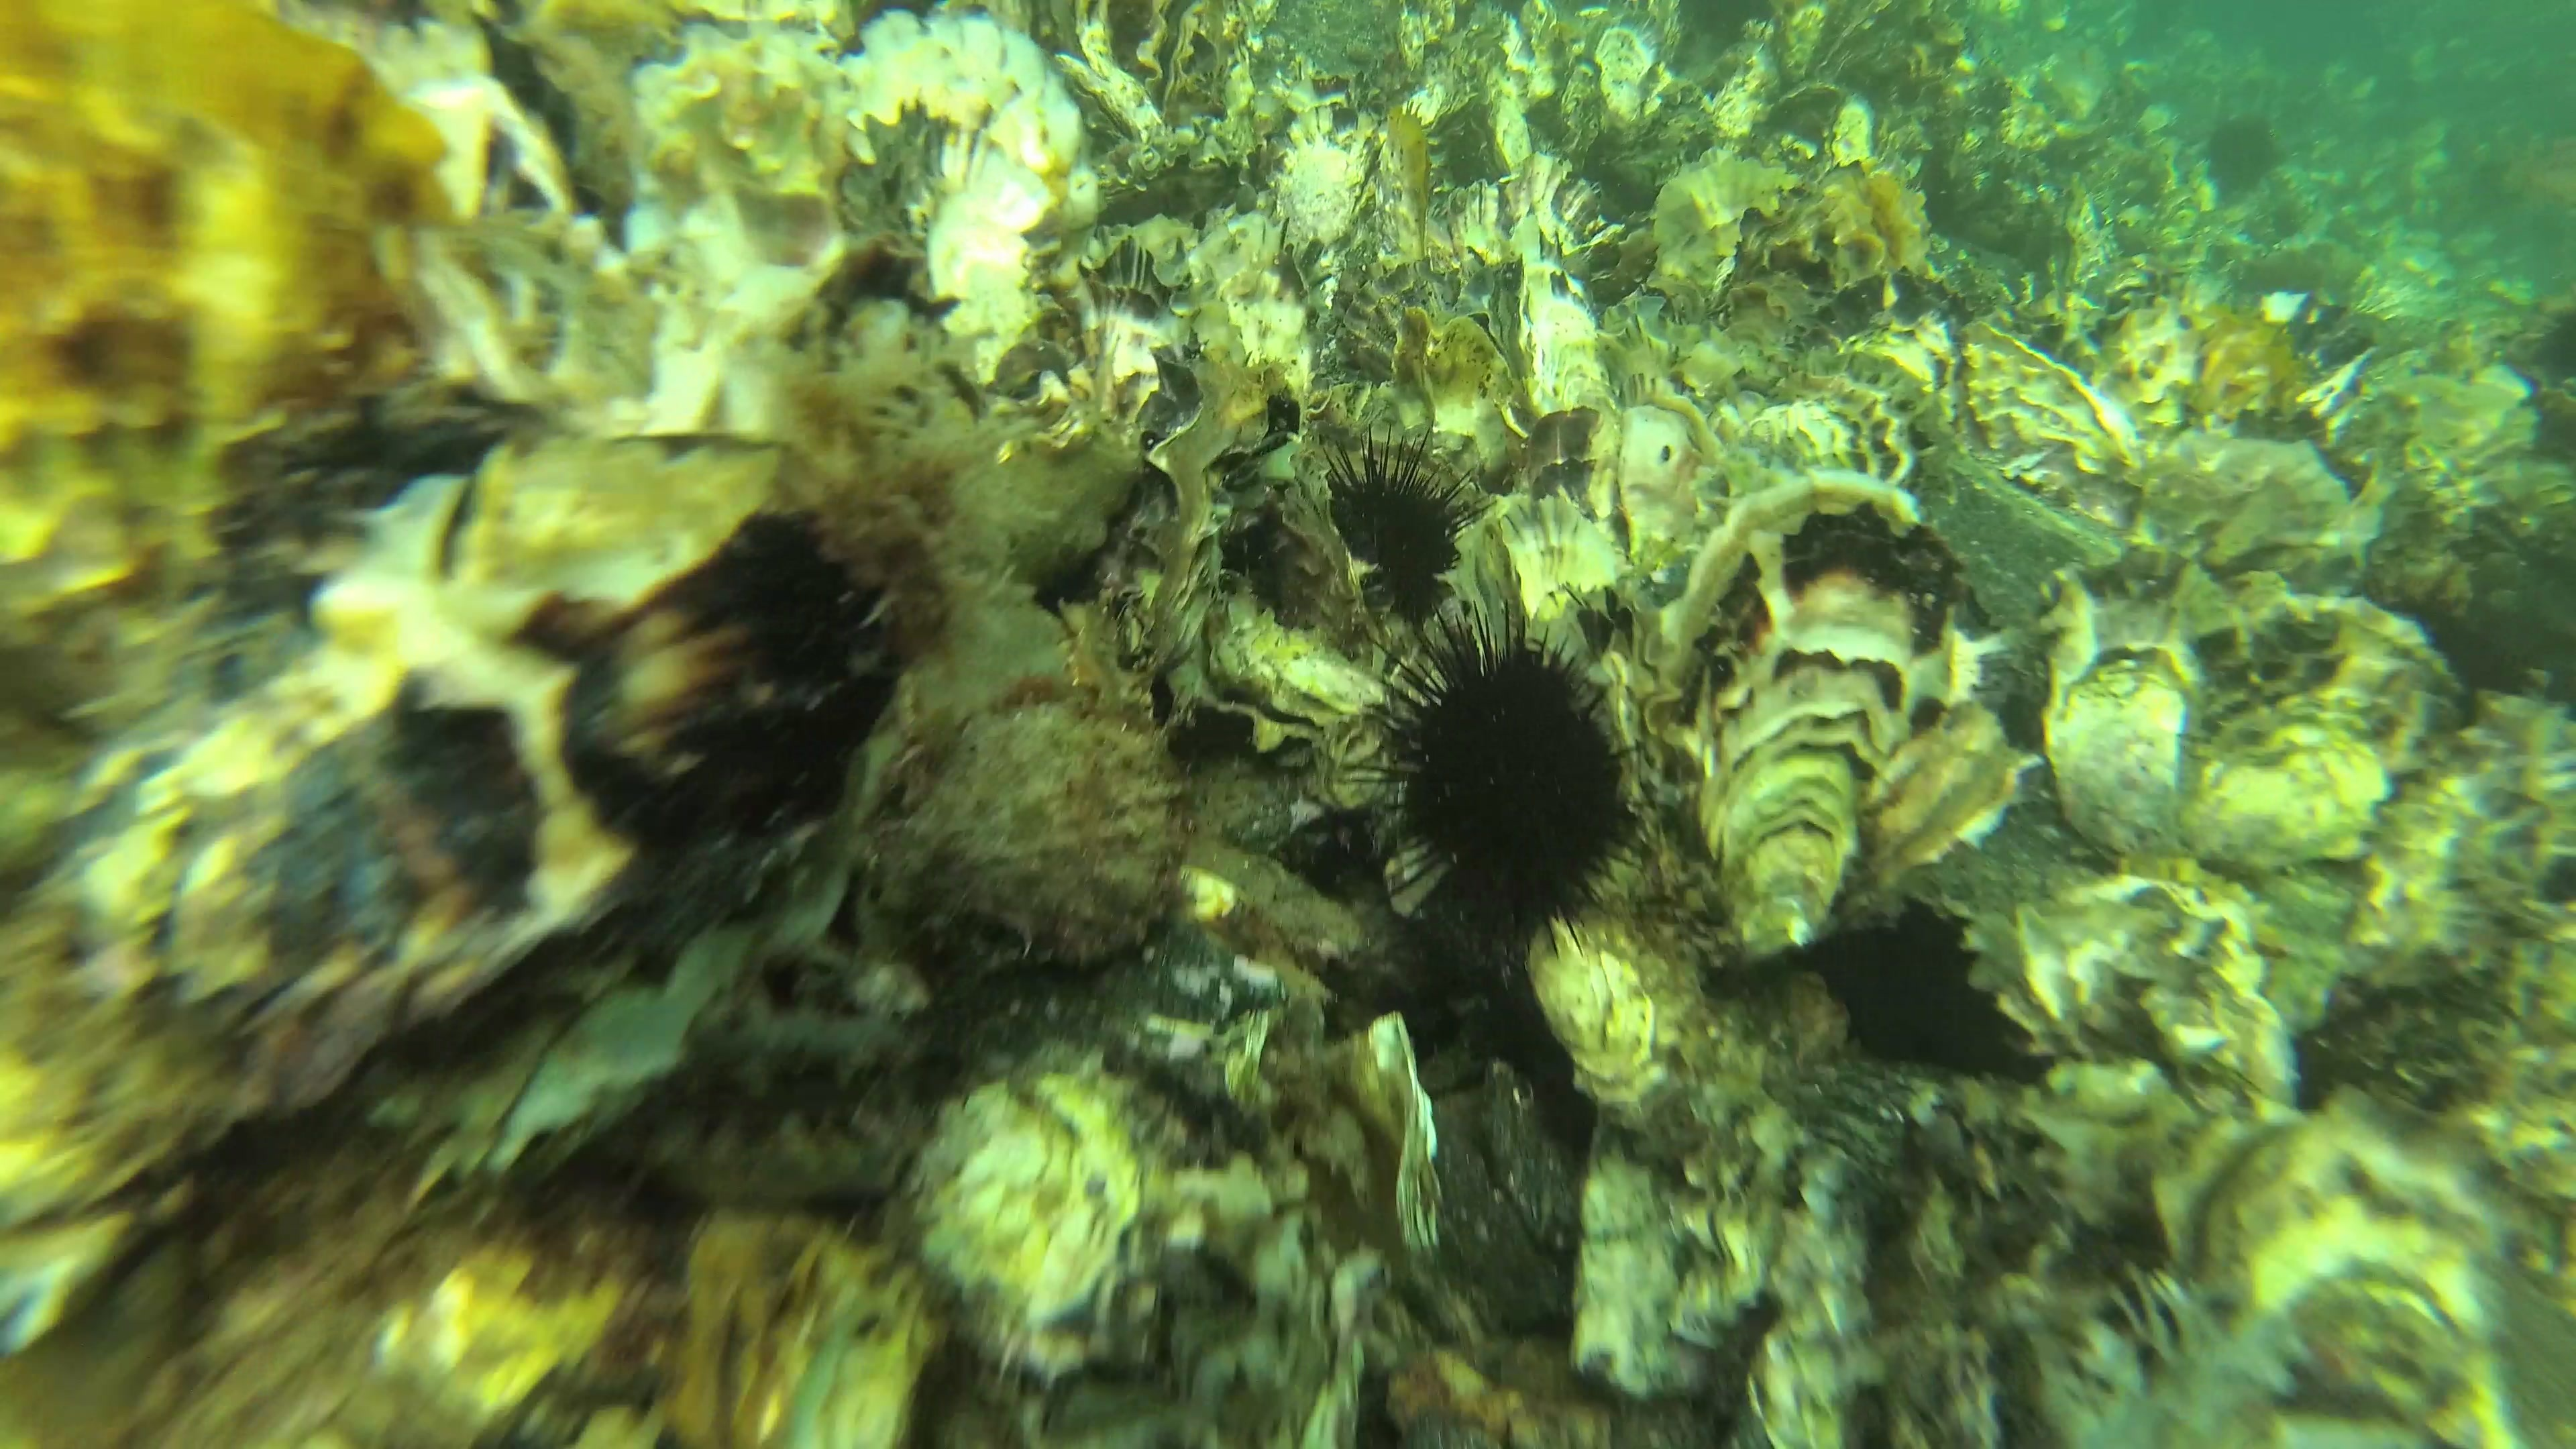echinus: (1343, 602, 1654, 952), (1304, 428, 1499, 635), (2204, 110, 2282, 198)
